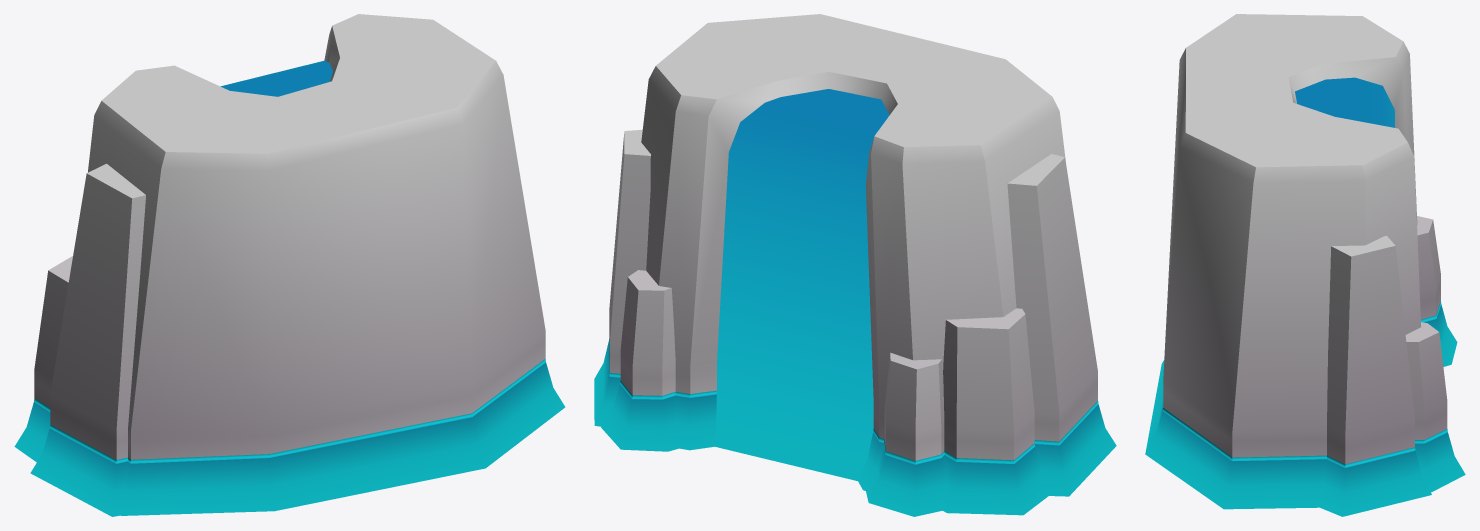
Rendered from prop-forest-cliff_waterfall_01.glb.
The picture shows the model from 3 angles, left to right: view 1: azimuth 30°, elevation 25°; view 2: azimuth 150°, elevation 25°; view 3: azimuth 270°, elevation 25°; orthographic projection. The views are drawn at different scales.
Parts seen in each view (by area): view 1: prop-forest-cliff_waterfall_01; view 2: prop-forest-cliff_waterfall_01; view 3: prop-forest-cliff_waterfall_01.
Part boxes in pixels (box(x1,y1,x2,y2)): prop-forest-cliff_waterfall_01: box(14, 14, 565, 516); prop-forest-cliff_waterfall_01: box(594, 14, 1116, 516); prop-forest-cliff_waterfall_01: box(1145, 14, 1465, 516).
Size of the model in its own units: 25.47 by 17.34 by 15.79.
